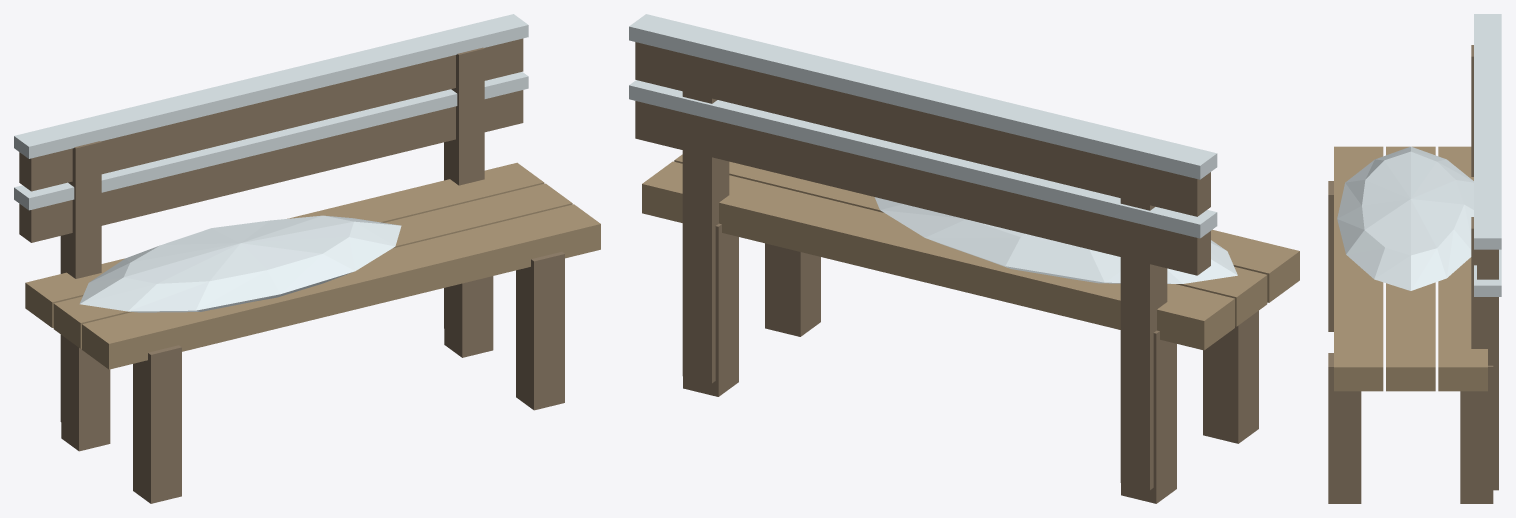
File: PROP_08_WinterBench.glb
3 renders of one model, left to right at view 1: azimuth 30°, elevation 25°; view 2: azimuth 150°, elevation 25°; view 3: azimuth 270°, elevation 25°, orthographic. The views are drawn at different scales.
Visible parts, largest first — view 1: PROP_08_WinterBench; view 2: PROP_08_WinterBench; view 3: PROP_08_WinterBench.
Boxes of the visible parts, x1,y1,x2,y2 form: PROP_08_WinterBench: (14,14,600,503); PROP_08_WinterBench: (629,14,1299,503); PROP_08_WinterBench: (1328,14,1501,503).
Bounding box in the file's own units: 1.93 × 1.14 × 0.63.
